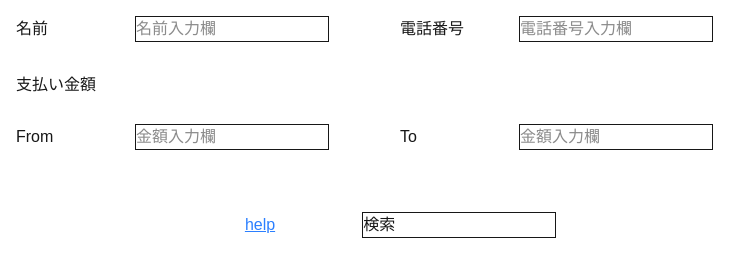
SearchPanel Error State Tests › paymentRangeErrorが出た時にエラーメッセージが表示される
Type "2000" into the field labelled "From" at (232, 137), box [136,125,328,149]
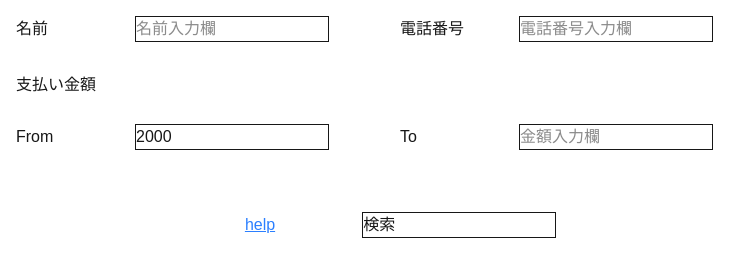
Type "1000" into the field labelled "To" at (616, 137), box [520,125,712,149]
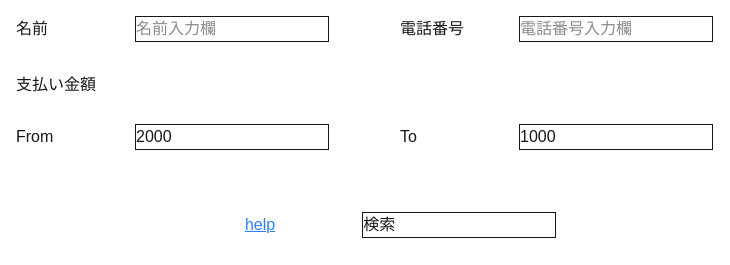
Leave the field labelled "From", box [136,125,328,149]
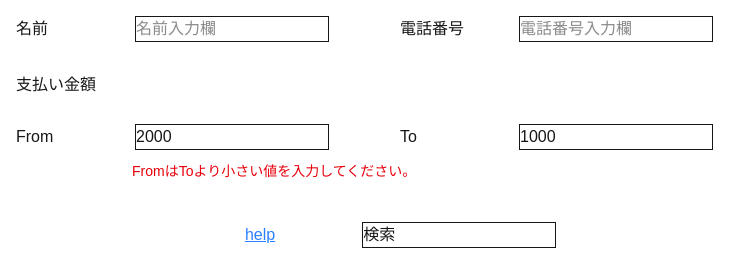
Expected: the text "FromはToより小さい値を入力してください。" is shown, [132,161,416,181]
